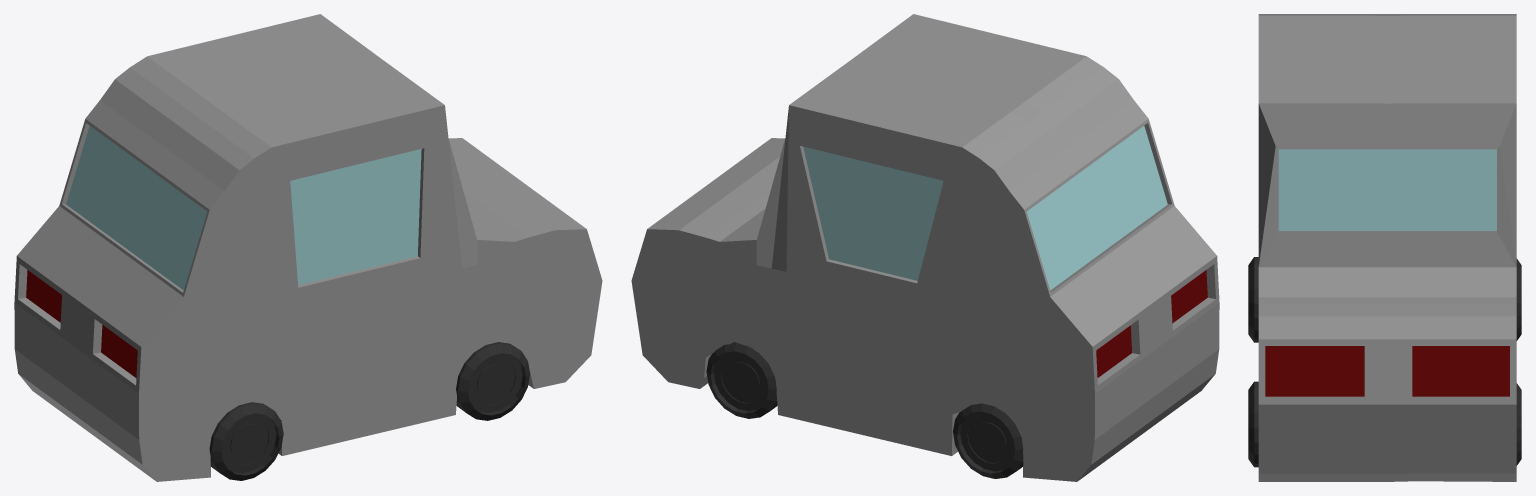
File: Car.FBX
3 renders of one model, left to right at view 1: azimuth 30°, elevation 25°; view 2: azimuth 150°, elevation 25°; view 3: azimuth 270°, elevation 25°, orthographic. The views are drawn at different scales.
Parts seen in each view (by area): view 1: Car, Fore_Wheels, Front_wheels; view 2: Car, Front_wheels, Fore_Wheels; view 3: Car, Front_wheels, Fore_Wheels.
Part boxes in pixels (x1,y1,x2,y2): Car: (14, 14, 602, 481); Fore_Wheels: (209, 402, 283, 480); Front_wheels: (456, 342, 529, 420); Car: (631, 14, 1219, 481); Front_wheels: (706, 342, 777, 418); Fore_Wheels: (953, 403, 1023, 478); Car: (1258, 14, 1516, 481); Front_wheels: (1248, 381, 1521, 467); Fore_Wheels: (1248, 257, 1521, 342).
Size of the model in its own units: 334 by 223 by 165.
